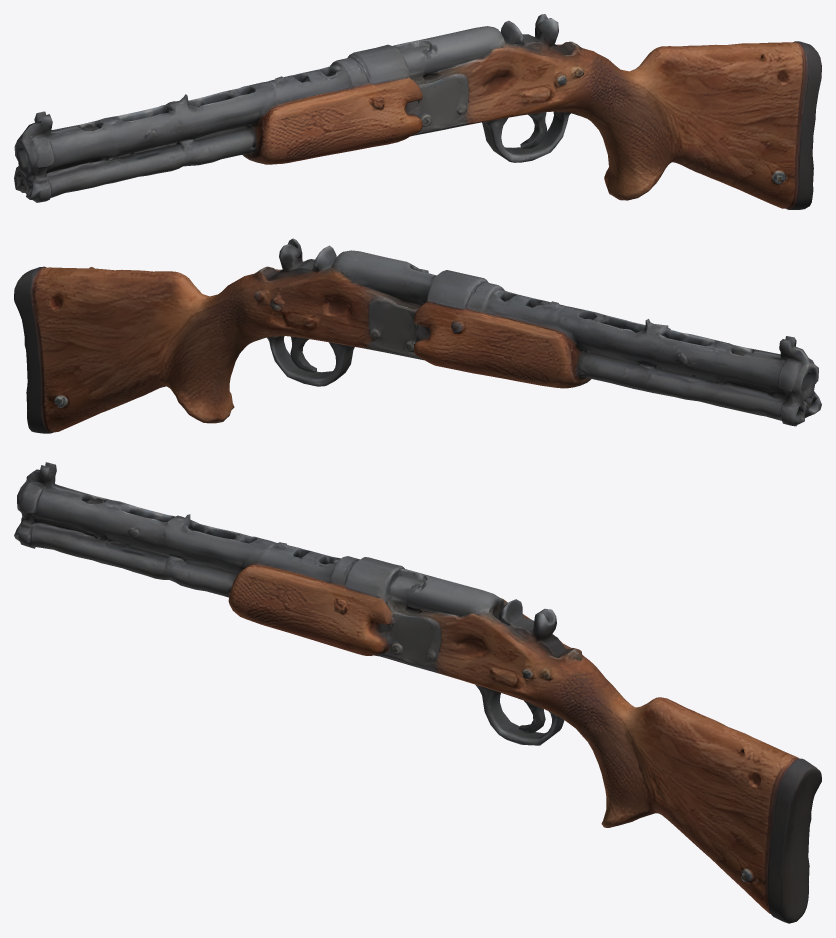
File: shotgun.glb
The picture shows the model from 3 angles, top to bottom: view 1: azimuth 30°, elevation 25°; view 2: azimuth 150°, elevation 25°; view 3: azimuth 330°, elevation 25°; orthographic projection.
Parts seen in each view (by area): view 1: tripo_node_3495689e-3849-444a-8aac-31a254c7f94b; view 2: tripo_node_3495689e-3849-444a-8aac-31a254c7f94b; view 3: tripo_node_3495689e-3849-444a-8aac-31a254c7f94b.
Boxes of the visible parts, left/top/right/bottom form: tripo_node_3495689e-3849-444a-8aac-31a254c7f94b: left=14, top=14, right=821, bottom=209; tripo_node_3495689e-3849-444a-8aac-31a254c7f94b: left=14, top=238, right=821, bottom=433; tripo_node_3495689e-3849-444a-8aac-31a254c7f94b: left=14, top=462, right=821, bottom=923.
Bounding box in the file's own units: 1 × 0.3333 × 0.0995.
1 material, 1 textured.
